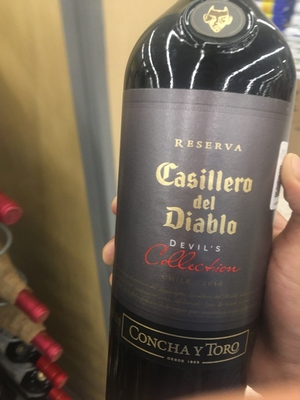casillero del diablo devils collection rojo: (109, 2, 297, 400)
